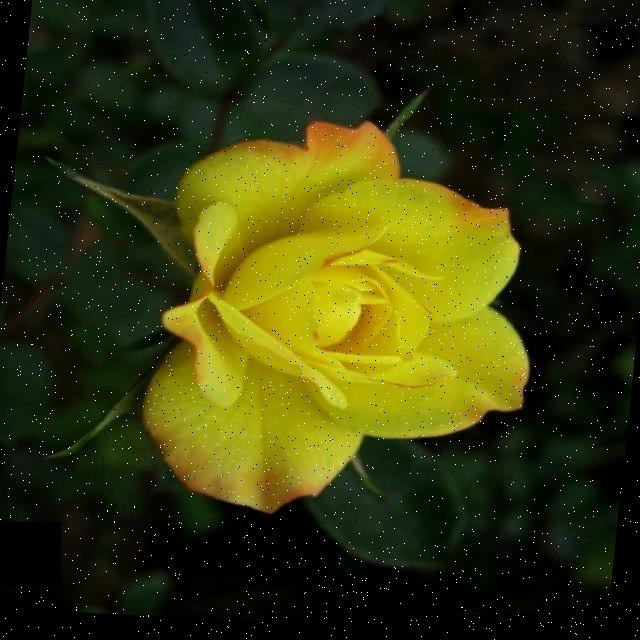rose: (54, 70, 618, 565)
